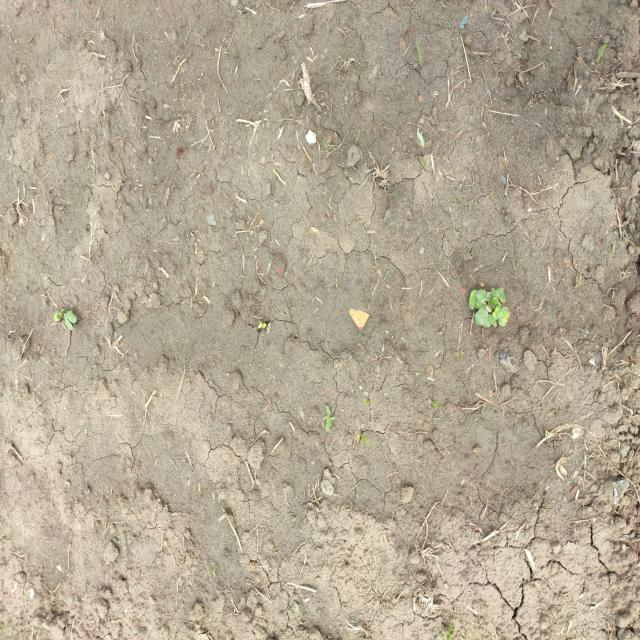seedling_s1: (498, 307, 510, 327), (474, 308, 488, 325), (476, 289, 493, 301), (482, 313, 495, 328), (475, 299, 487, 313), (469, 289, 477, 310), (490, 296, 502, 310), (64, 313, 73, 331), (496, 287, 506, 303), (492, 305, 502, 320), (66, 311, 77, 323), (491, 288, 499, 300)
